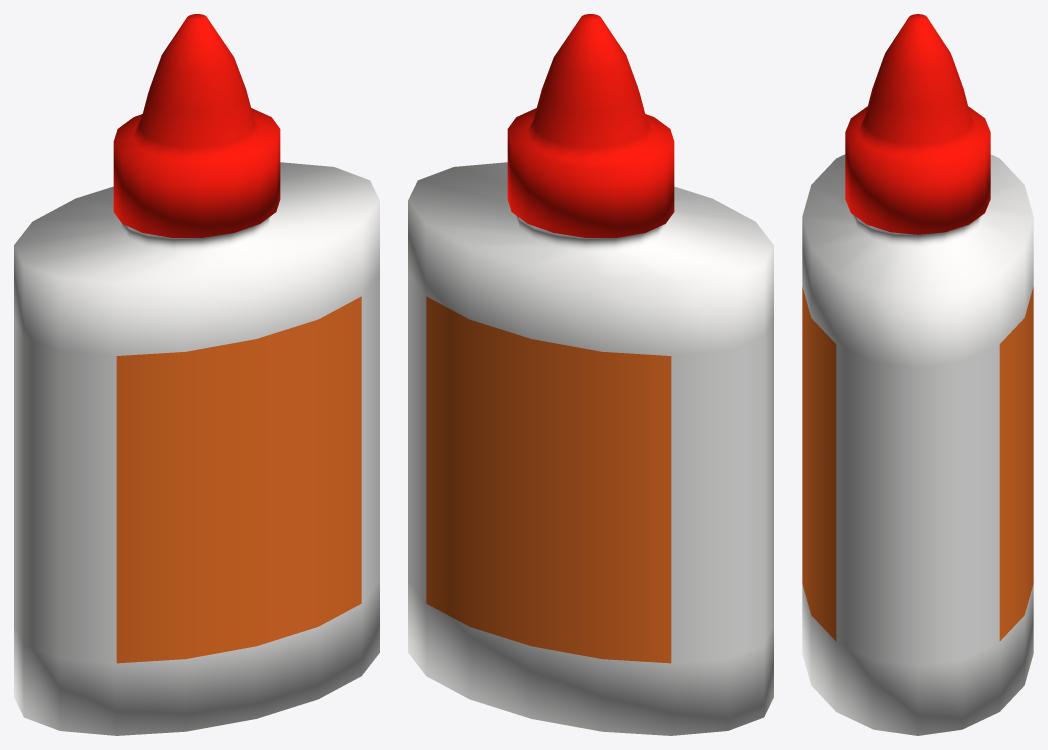
The model's file is glue_final.fbx.
3 views of the same model, side by side, from view 1: azimuth 30°, elevation 25°; view 2: azimuth 150°, elevation 25°; view 3: azimuth 270°, elevation 25° (orthographic). The views are drawn at different scales.
Visible parts, largest first — view 1: Glue; view 2: Glue; view 3: Glue.
Part boxes in pixels (left/top/right/bottom): Glue: left=14, top=14, right=379, bottom=735; Glue: left=408, top=14, right=773, bottom=735; Glue: left=802, top=14, right=1033, bottom=735.
Size of the model in its own units: 82.99 by 150 by 49.53.
